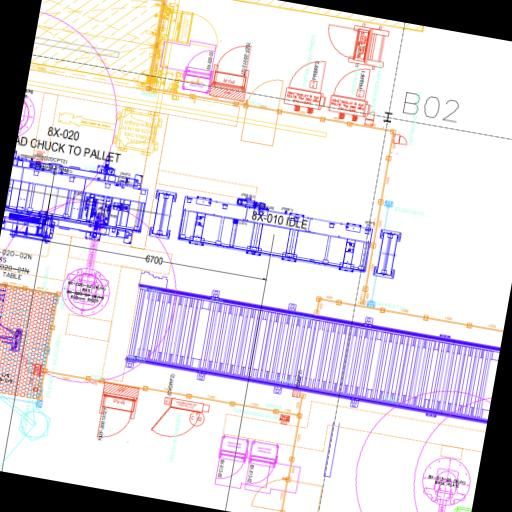robot: (56, 206, 124, 321), (410, 451, 475, 512)
